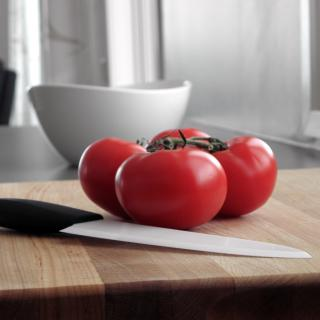tomato: (115, 127, 231, 223), (203, 134, 278, 216), (76, 135, 149, 216), (143, 128, 213, 150)
